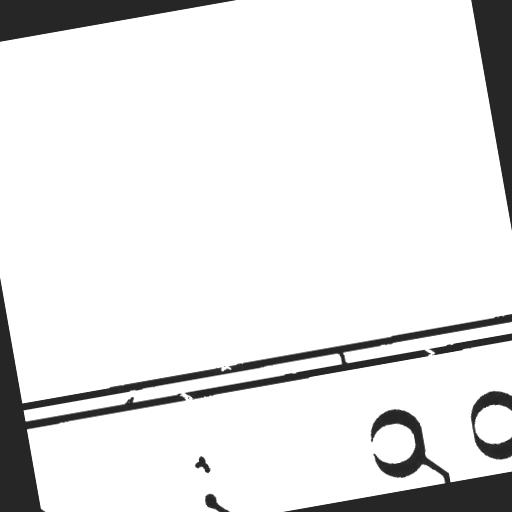copper: (184, 445, 219, 483)
mousebite: (210, 350, 240, 380)
open: (169, 380, 202, 415), (412, 336, 444, 366)
short: (327, 338, 356, 375)
spur: (111, 387, 144, 416)
